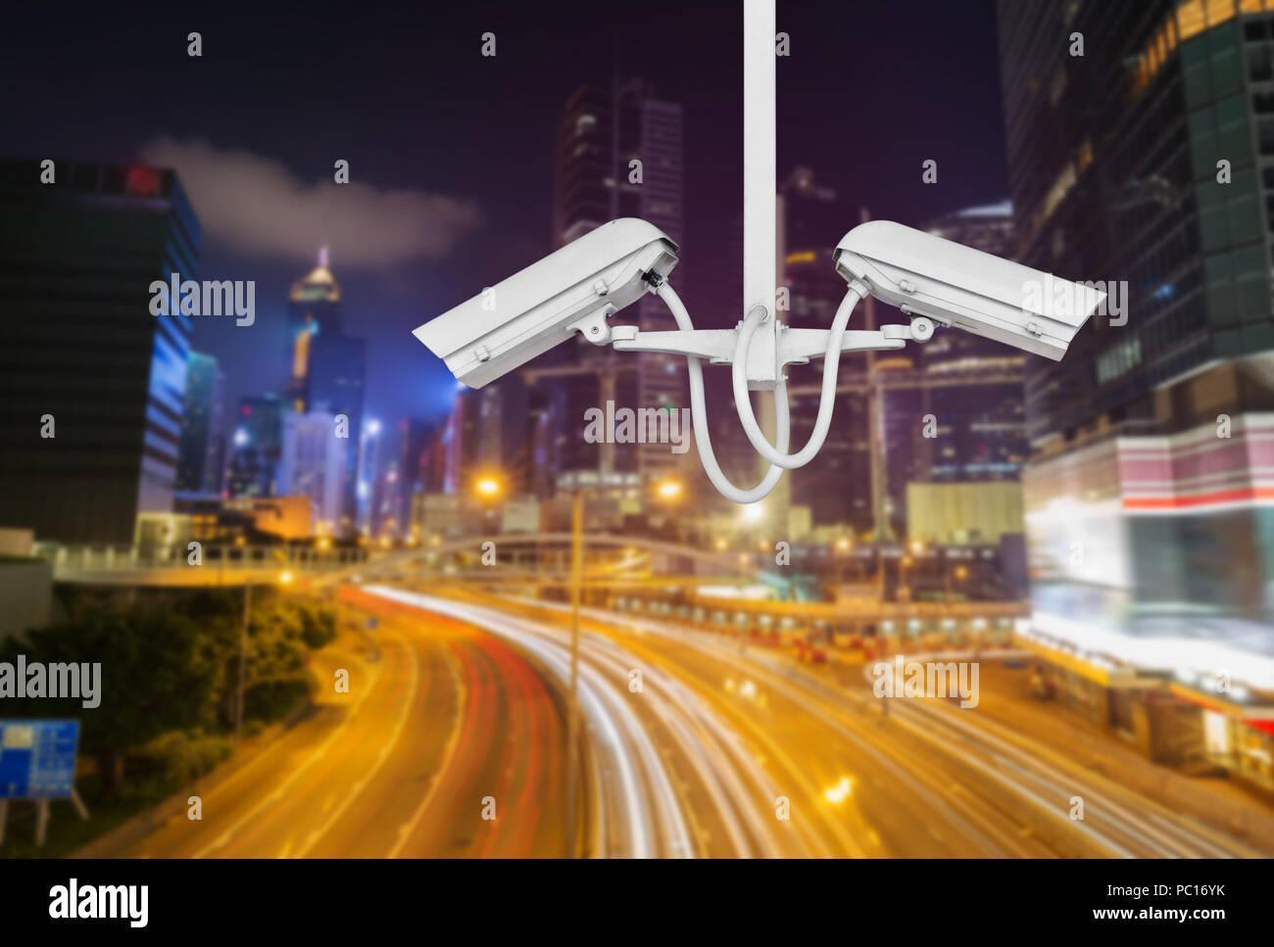Monitor: (409, 213, 680, 390), (831, 216, 1106, 363)
